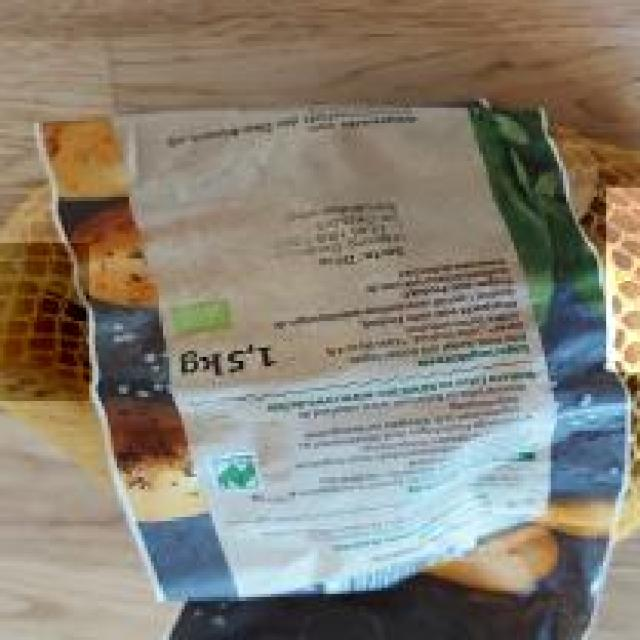potato: (0, 240, 89, 400)
